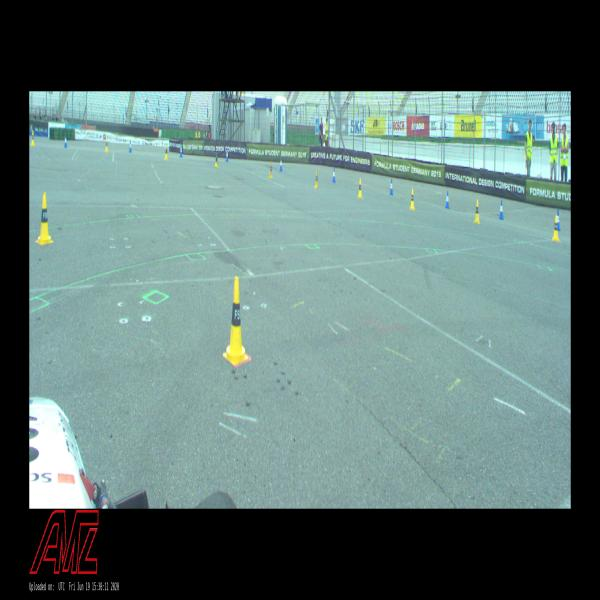blue_cone: (499, 200, 504, 220), (557, 209, 561, 231), (446, 190, 450, 209), (389, 179, 393, 195), (332, 167, 336, 183), (279, 156, 283, 172), (64, 134, 68, 148), (129, 141, 132, 152), (180, 146, 183, 157), (226, 150, 228, 162)
yellow_cone: (223, 277, 248, 363), (36, 193, 53, 244), (552, 215, 559, 242), (474, 199, 480, 224), (410, 188, 415, 210), (314, 171, 319, 188), (358, 179, 362, 198), (30, 132, 35, 146), (269, 162, 273, 178), (165, 145, 168, 160), (105, 138, 108, 153), (215, 154, 218, 168)
